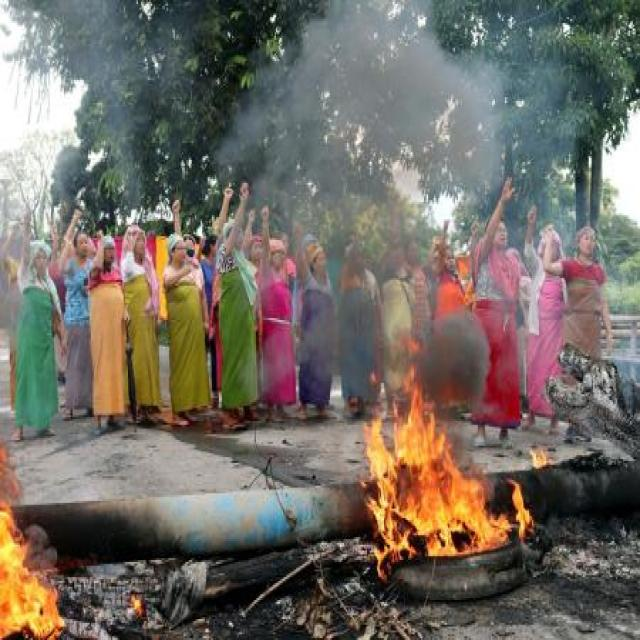fire: (361, 376, 515, 570), (0, 497, 64, 640), (510, 473, 532, 539)
